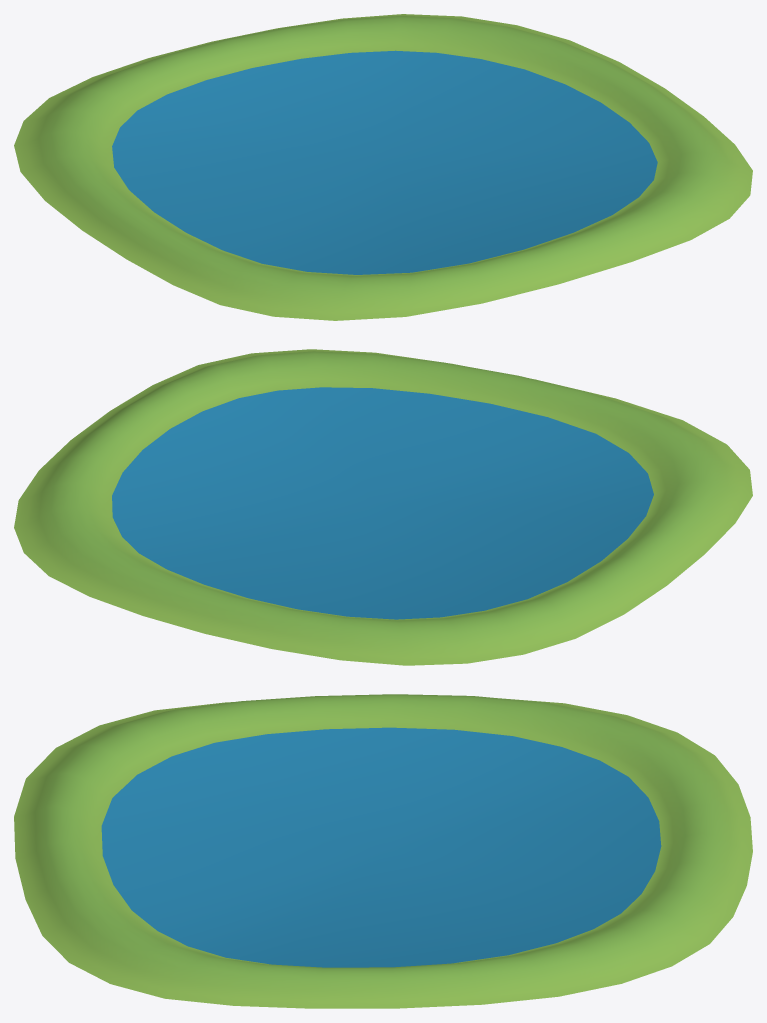
File: Water2.fbx
3 views of the same model, one above another, from view 1: azimuth 30°, elevation 25°; view 2: azimuth 150°, elevation 25°; view 3: azimuth 270°, elevation 25° (orthographic). The views are drawn at different scales.
Parts seen in each view (by area): view 1: Circle; view 2: Circle; view 3: Circle.
Boxes of the visible parts, x1,y1,x2,y2 form: Circle: (14, 14, 752, 320); Circle: (14, 349, 752, 665); Circle: (14, 694, 752, 1008).
Bounding box in the file's own units: 9.16 × 0.2417 × 9.14.
